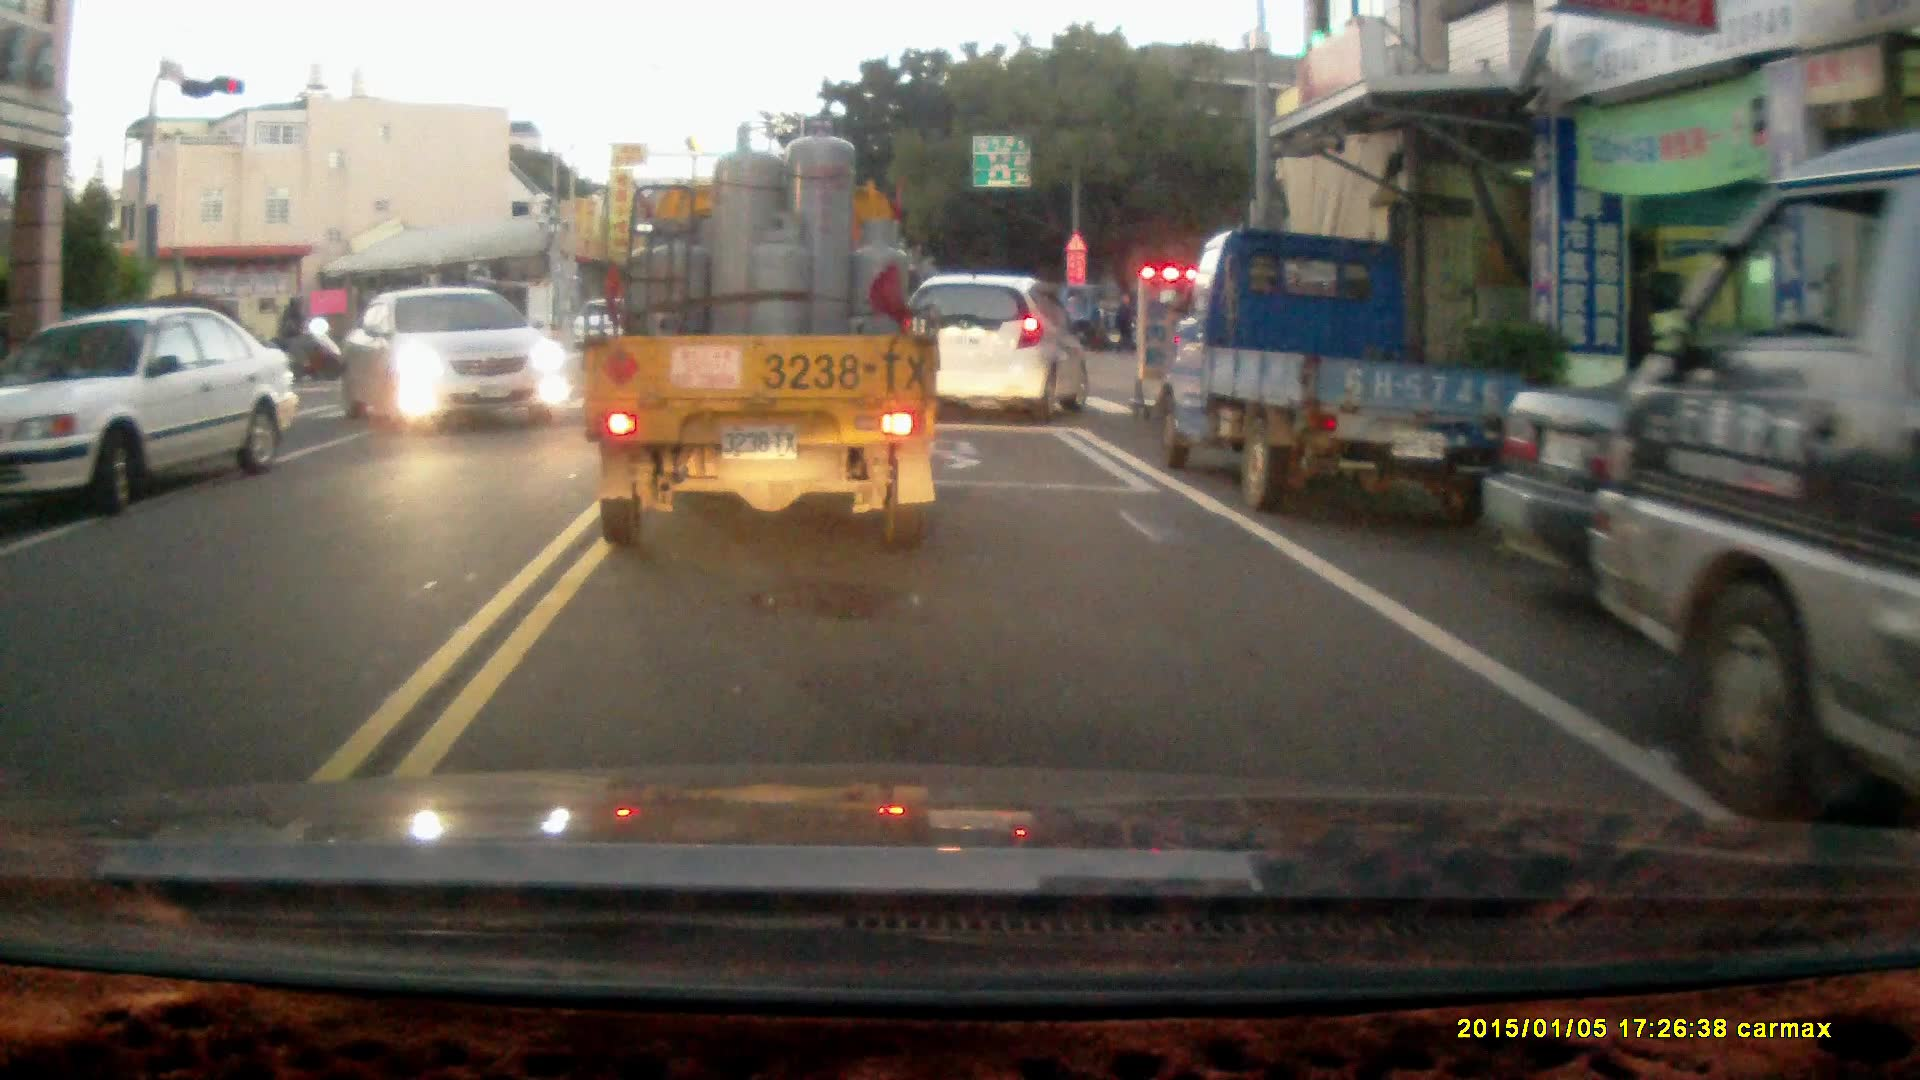rider: (258, 297, 342, 385)
vehicle: (1584, 133, 1920, 795), (580, 116, 943, 555), (1164, 230, 1526, 529), (10, 312, 297, 511), (338, 288, 574, 429), (894, 275, 1097, 421)
